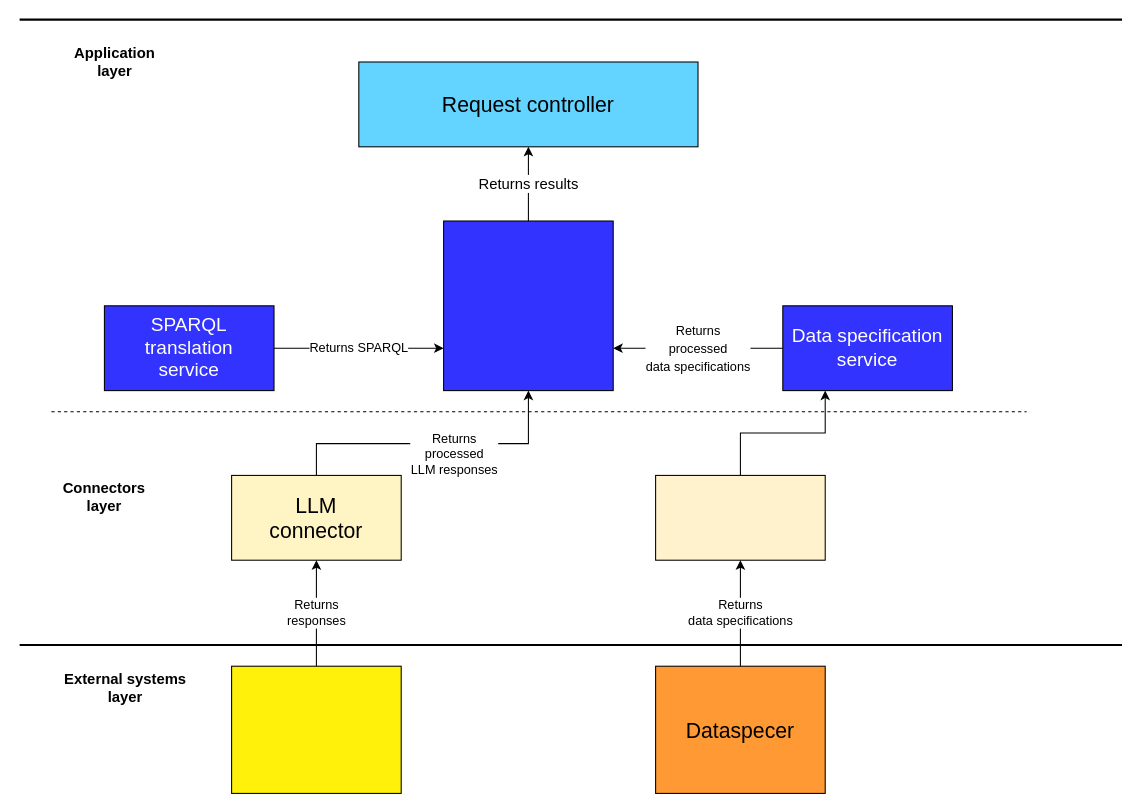
Some shapes in this 1142 by 812 pixel diagram are drawn without their labels. Here are the shapes that lost their labels. From the top down, the centre of each, then its label:
At pixel 528 305: "Conversation service".
At pixel 740 517: "Dataspecer connector".
At pixel 316 729: "LLM".
